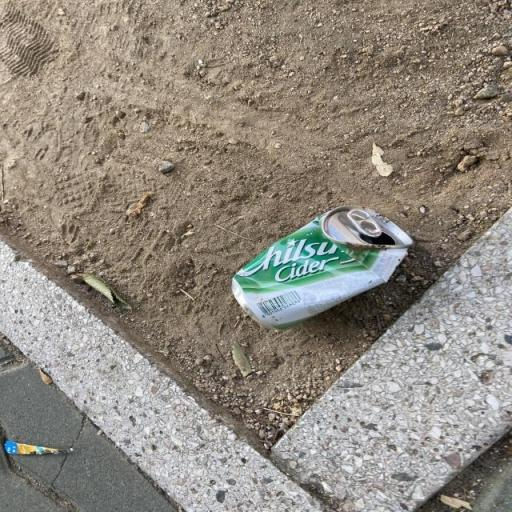metal: (210, 196, 426, 340)
